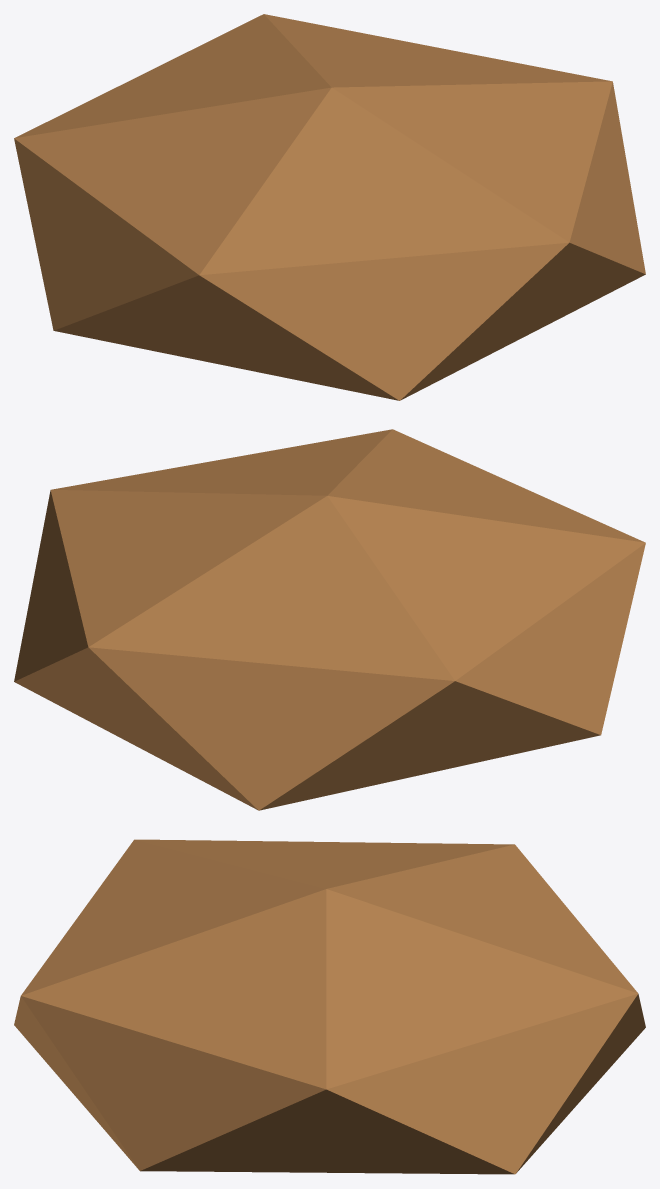
The model's file is crate_content_whole.glb.
3 renders of one model, top to bottom at view 1: azimuth 30°, elevation 25°; view 2: azimuth 150°, elevation 25°; view 3: azimuth 270°, elevation 25°, orthographic. The views are drawn at different scales.
Visible parts, largest first — view 1: crate_content_whole_0; view 2: crate_content_whole_0; view 3: crate_content_whole_0.
Boxes of the visible parts, <box> form: crate_content_whole_0: <box>14,14,645,400</box>; crate_content_whole_0: <box>14,429,645,810</box>; crate_content_whole_0: <box>14,839,645,1174</box>.
Size of the model in its own units: 0.3262 by 0.1392 by 0.3178.
